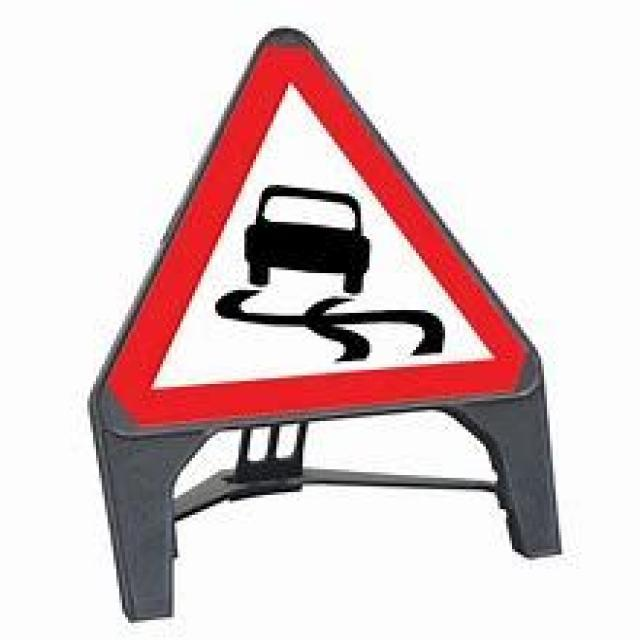slippery road: (91, 35, 547, 437)
